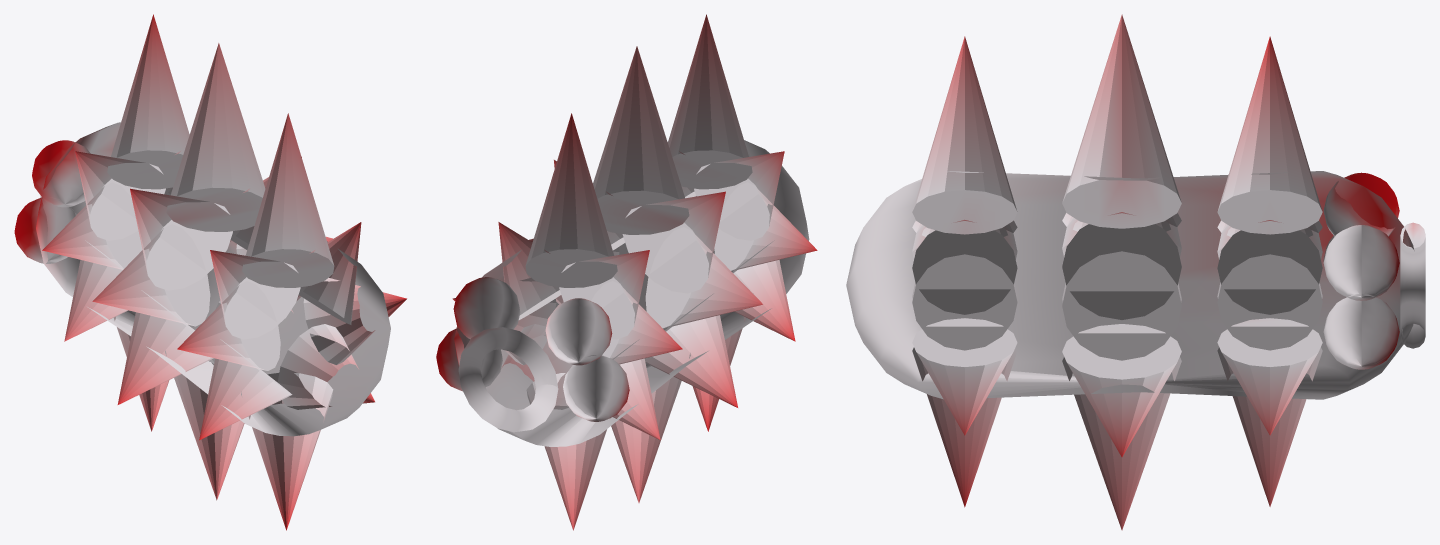
Rendered from darksucker.glb.
3 renders of one model, left to right at view 1: azimuth 30°, elevation 25°; view 2: azimuth 150°, elevation 25°; view 3: azimuth 270°, elevation 25°, orthographic. The views are drawn at different scales.
Parts seen in each view (by area): view 1: Darksucker; view 2: Darksucker; view 3: Darksucker.
Boxes of the visible parts, x1=… form: Darksucker: x1=14, y1=14, x2=406, y2=530; Darksucker: x1=436, y1=14, x2=817, y2=530; Darksucker: x1=846, y1=14, x2=1425, y2=530.
Size of the model in its own units: 0.5946 by 0.9924 by 1.01.
